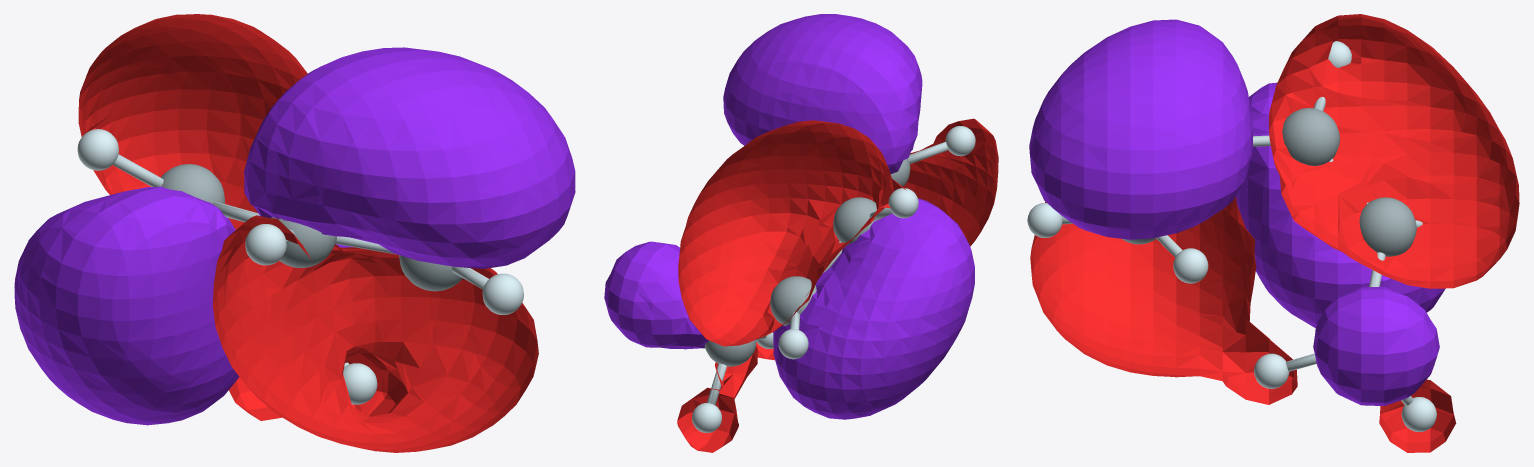
The picture shows the model from 3 angles, left to right: view 1: azimuth 30°, elevation 25°; view 2: azimuth 150°, elevation 25°; view 3: azimuth 270°, elevation 25°; orthographic projection. The views are drawn at different scales.
Parts seen in each view (by area): view 1: Renderer Node; view 2: Renderer Node; view 3: Renderer Node.
Boxes of the visible parts, x1=… form: Renderer Node: x1=14, y1=14, x2=575, y2=452; Renderer Node: x1=604, y1=14, x2=998, y2=452; Renderer Node: x1=1027, y1=14, x2=1519, y2=452.
Bounding box in the file's own units: 4.95 × 5.02 × 5.57.
